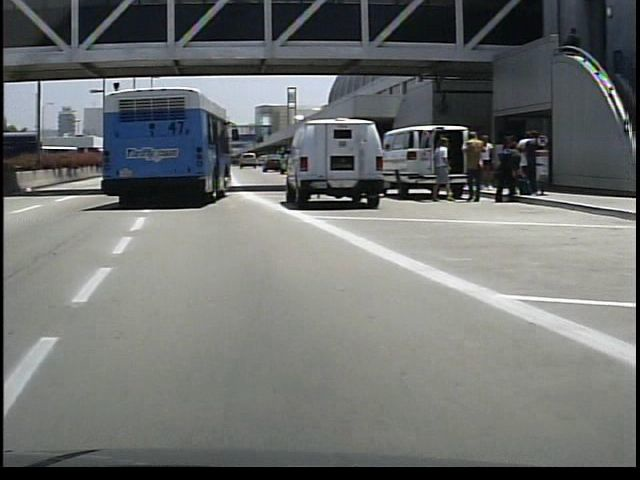person: (457, 130, 483, 205), (427, 133, 451, 203)
